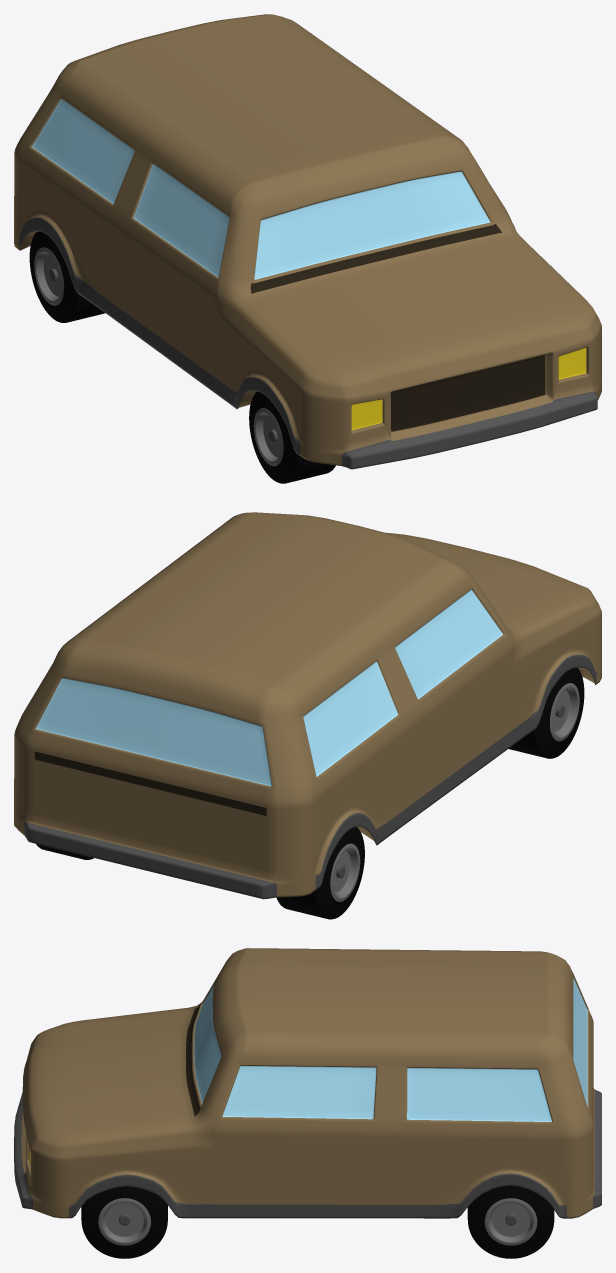
File: suv_car.FBX
The picture shows the model from 3 angles, top to bottom: view 1: azimuth 30°, elevation 25°; view 2: azimuth 150°, elevation 25°; view 3: azimuth 270°, elevation 25°; orthographic projection. The views are drawn at different scales.
Parts seen in each view (by area): view 1: car, Cylinder001, Cylinder002; view 2: car, Cylinder002, Cylinder001; view 3: car, Cylinder003, Cylinder004.
Part boxes in pixels (<box>): car: <box>14,14,601,469</box>; Cylinder001: <box>249,391,335,483</box>; Cylinder002: <box>29,231,105,322</box>; car: <box>14,512,601,899</box>; Cylinder002: <box>276,827,364,919</box>; Cylinder001: <box>508,668,584,758</box>; car: <box>14,948,601,1218</box>; Cylinder003: <box>81,1186,167,1258</box>; Cylinder004: <box>467,1185,554,1258</box>.
Size of the model in its own units: 205 by 157 by 392.
